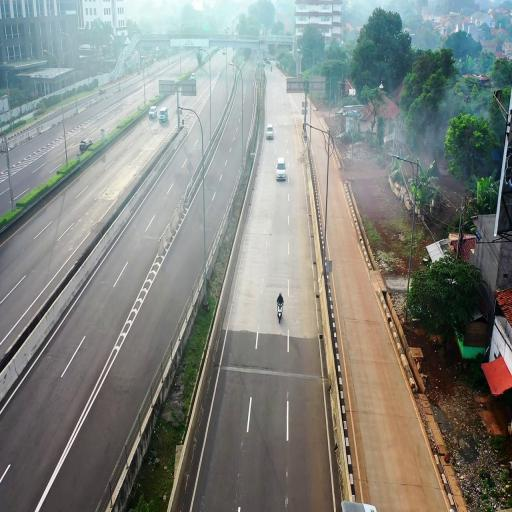vehicle: (276, 158, 288, 182)
